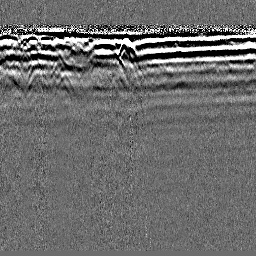cavity: (115, 35, 137, 57)
